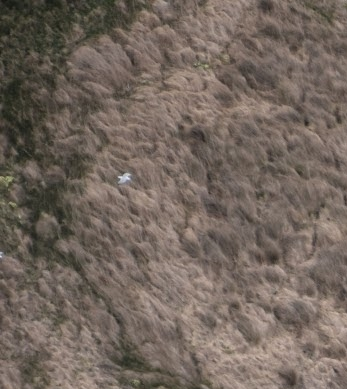white_in_green: (100, 156, 149, 199)
